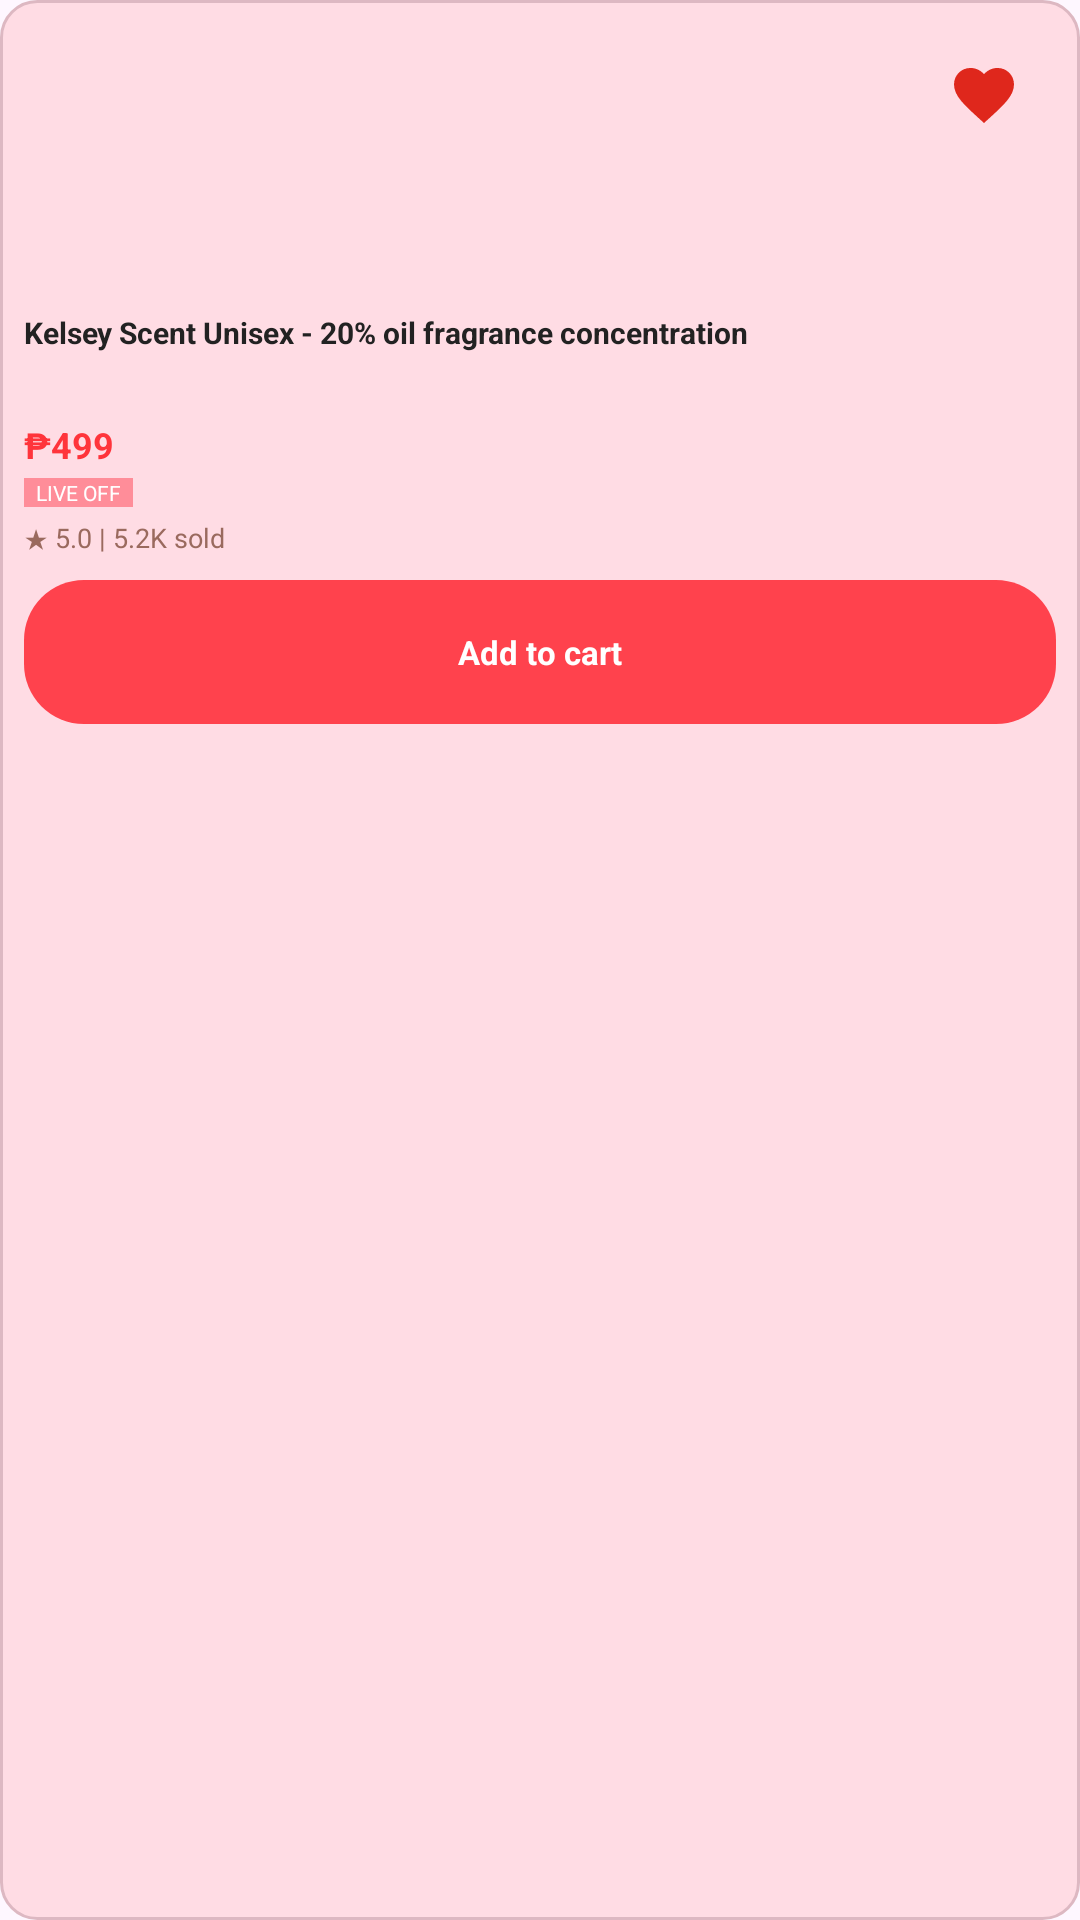

Icon click points for this 1080px×1920px phone screenshot, format point (x, y):
Remove from wishlist: point (984, 95)
